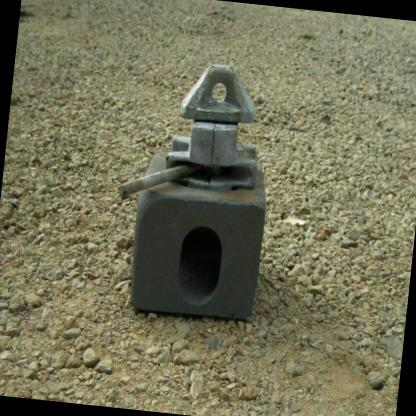CornerCasting: (127, 147, 272, 324)
Twistlock: (156, 60, 270, 191)
